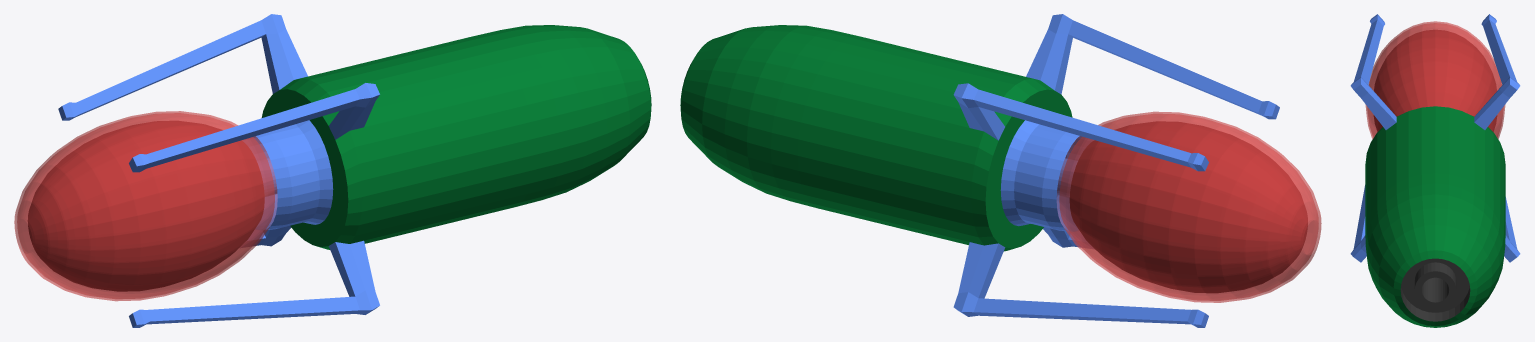
The model's file is _eapon5.fbx.
3 renders of one model, left to right at view 1: azimuth 30°, elevation 25°; view 2: azimuth 150°, elevation 25°; view 3: azimuth 270°, elevation 25°, orthographic. The views are drawn at different scales.
Parts seen in each view (by area): view 1: Cylinder, Inside; view 2: Cylinder, Inside; view 3: Cylinder, Inside.
Boxes of the visible parts, x1,y1,x2,y2 form: Cylinder: (14, 14, 651, 327); Inside: (28, 121, 264, 291); Cylinder: (680, 14, 1321, 327); Inside: (1070, 121, 1307, 292); Cylinder: (1350, 14, 1520, 327); Inside: (1374, 30, 1496, 131).
Size of the model in its own units: 316 by 116 by 97.17.
